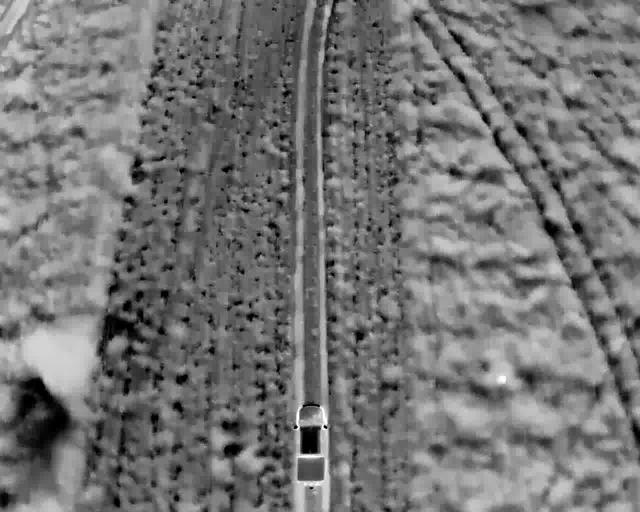car: (292, 405, 328, 484)
